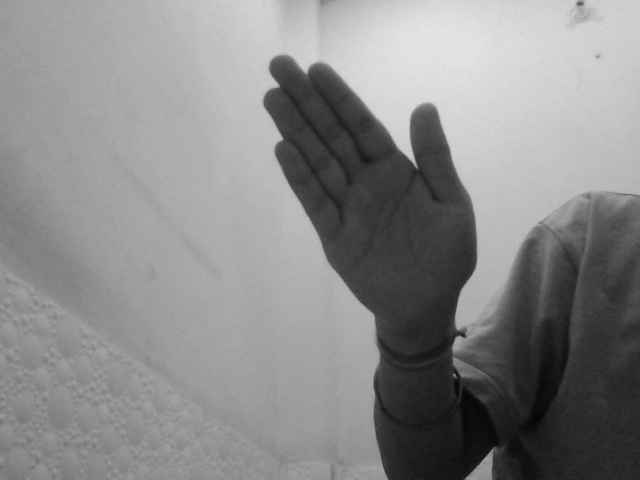Hello: (258, 49, 483, 357)
